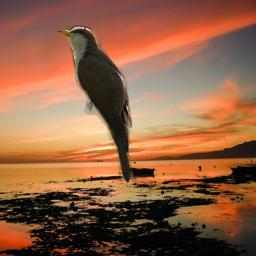Cuckoo: (56, 25, 136, 186)
